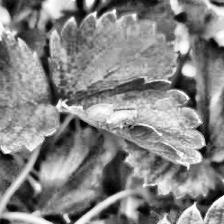Powdery Mildew Leaf: (60, 76, 205, 171)
